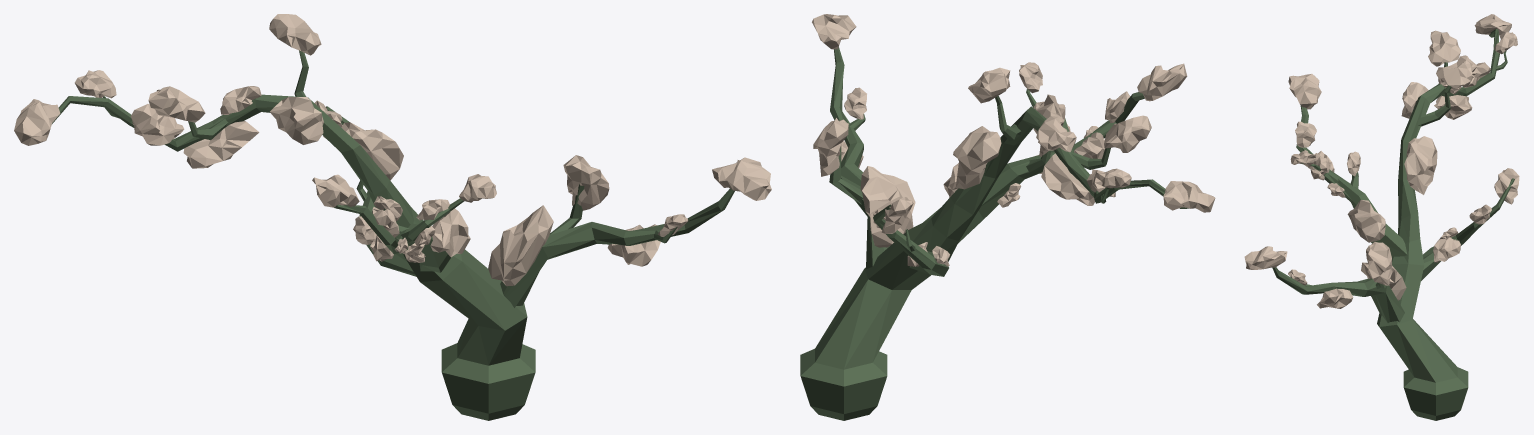
The model's file is peach tree1.fbx.
The picture shows the model from 3 angles, left to right: view 1: azimuth 30°, elevation 25°; view 2: azimuth 150°, elevation 25°; view 3: azimuth 270°, elevation 25°; orthographic projection. The views are drawn at different scales.
Visible parts, largest first — view 1: polySurface41; view 2: polySurface41; view 3: polySurface41.
Boxes of the visible parts, x1,y1,x2,y2 form: polySurface41: (14,14,771,420); polySurface41: (800,14,1215,420); polySurface41: (1244,14,1519,420).
Size of the model in its own units: 432 by 298 by 254.
